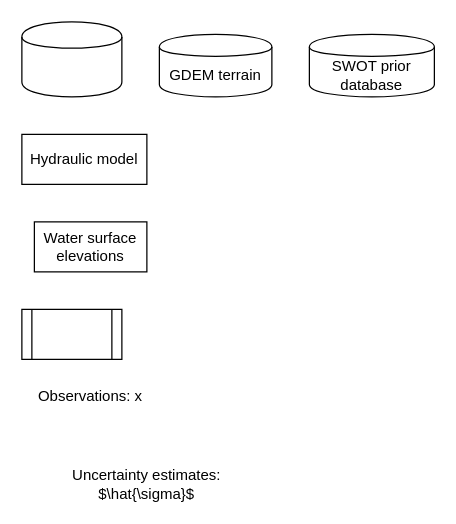
This 456x524 diagram has some shape labels left out. Here are the shapes that lost their labels. From the top down, the centre of each, then its label:
At (71,59): "Obs. Q, bathy".
At (71,333): "RiverObs".
